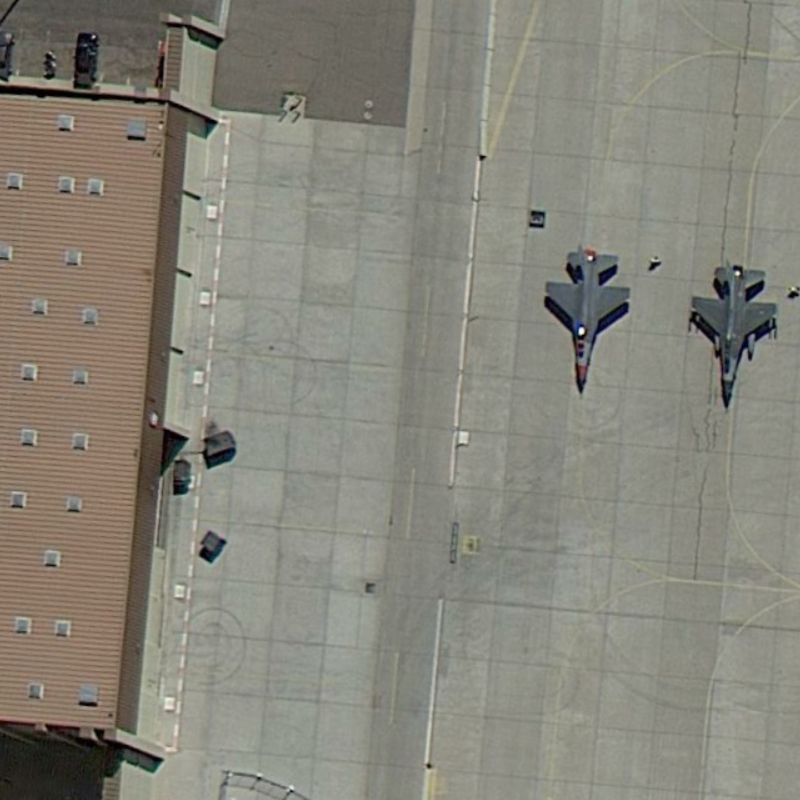A5: (683, 259, 783, 415), (538, 244, 637, 399)
